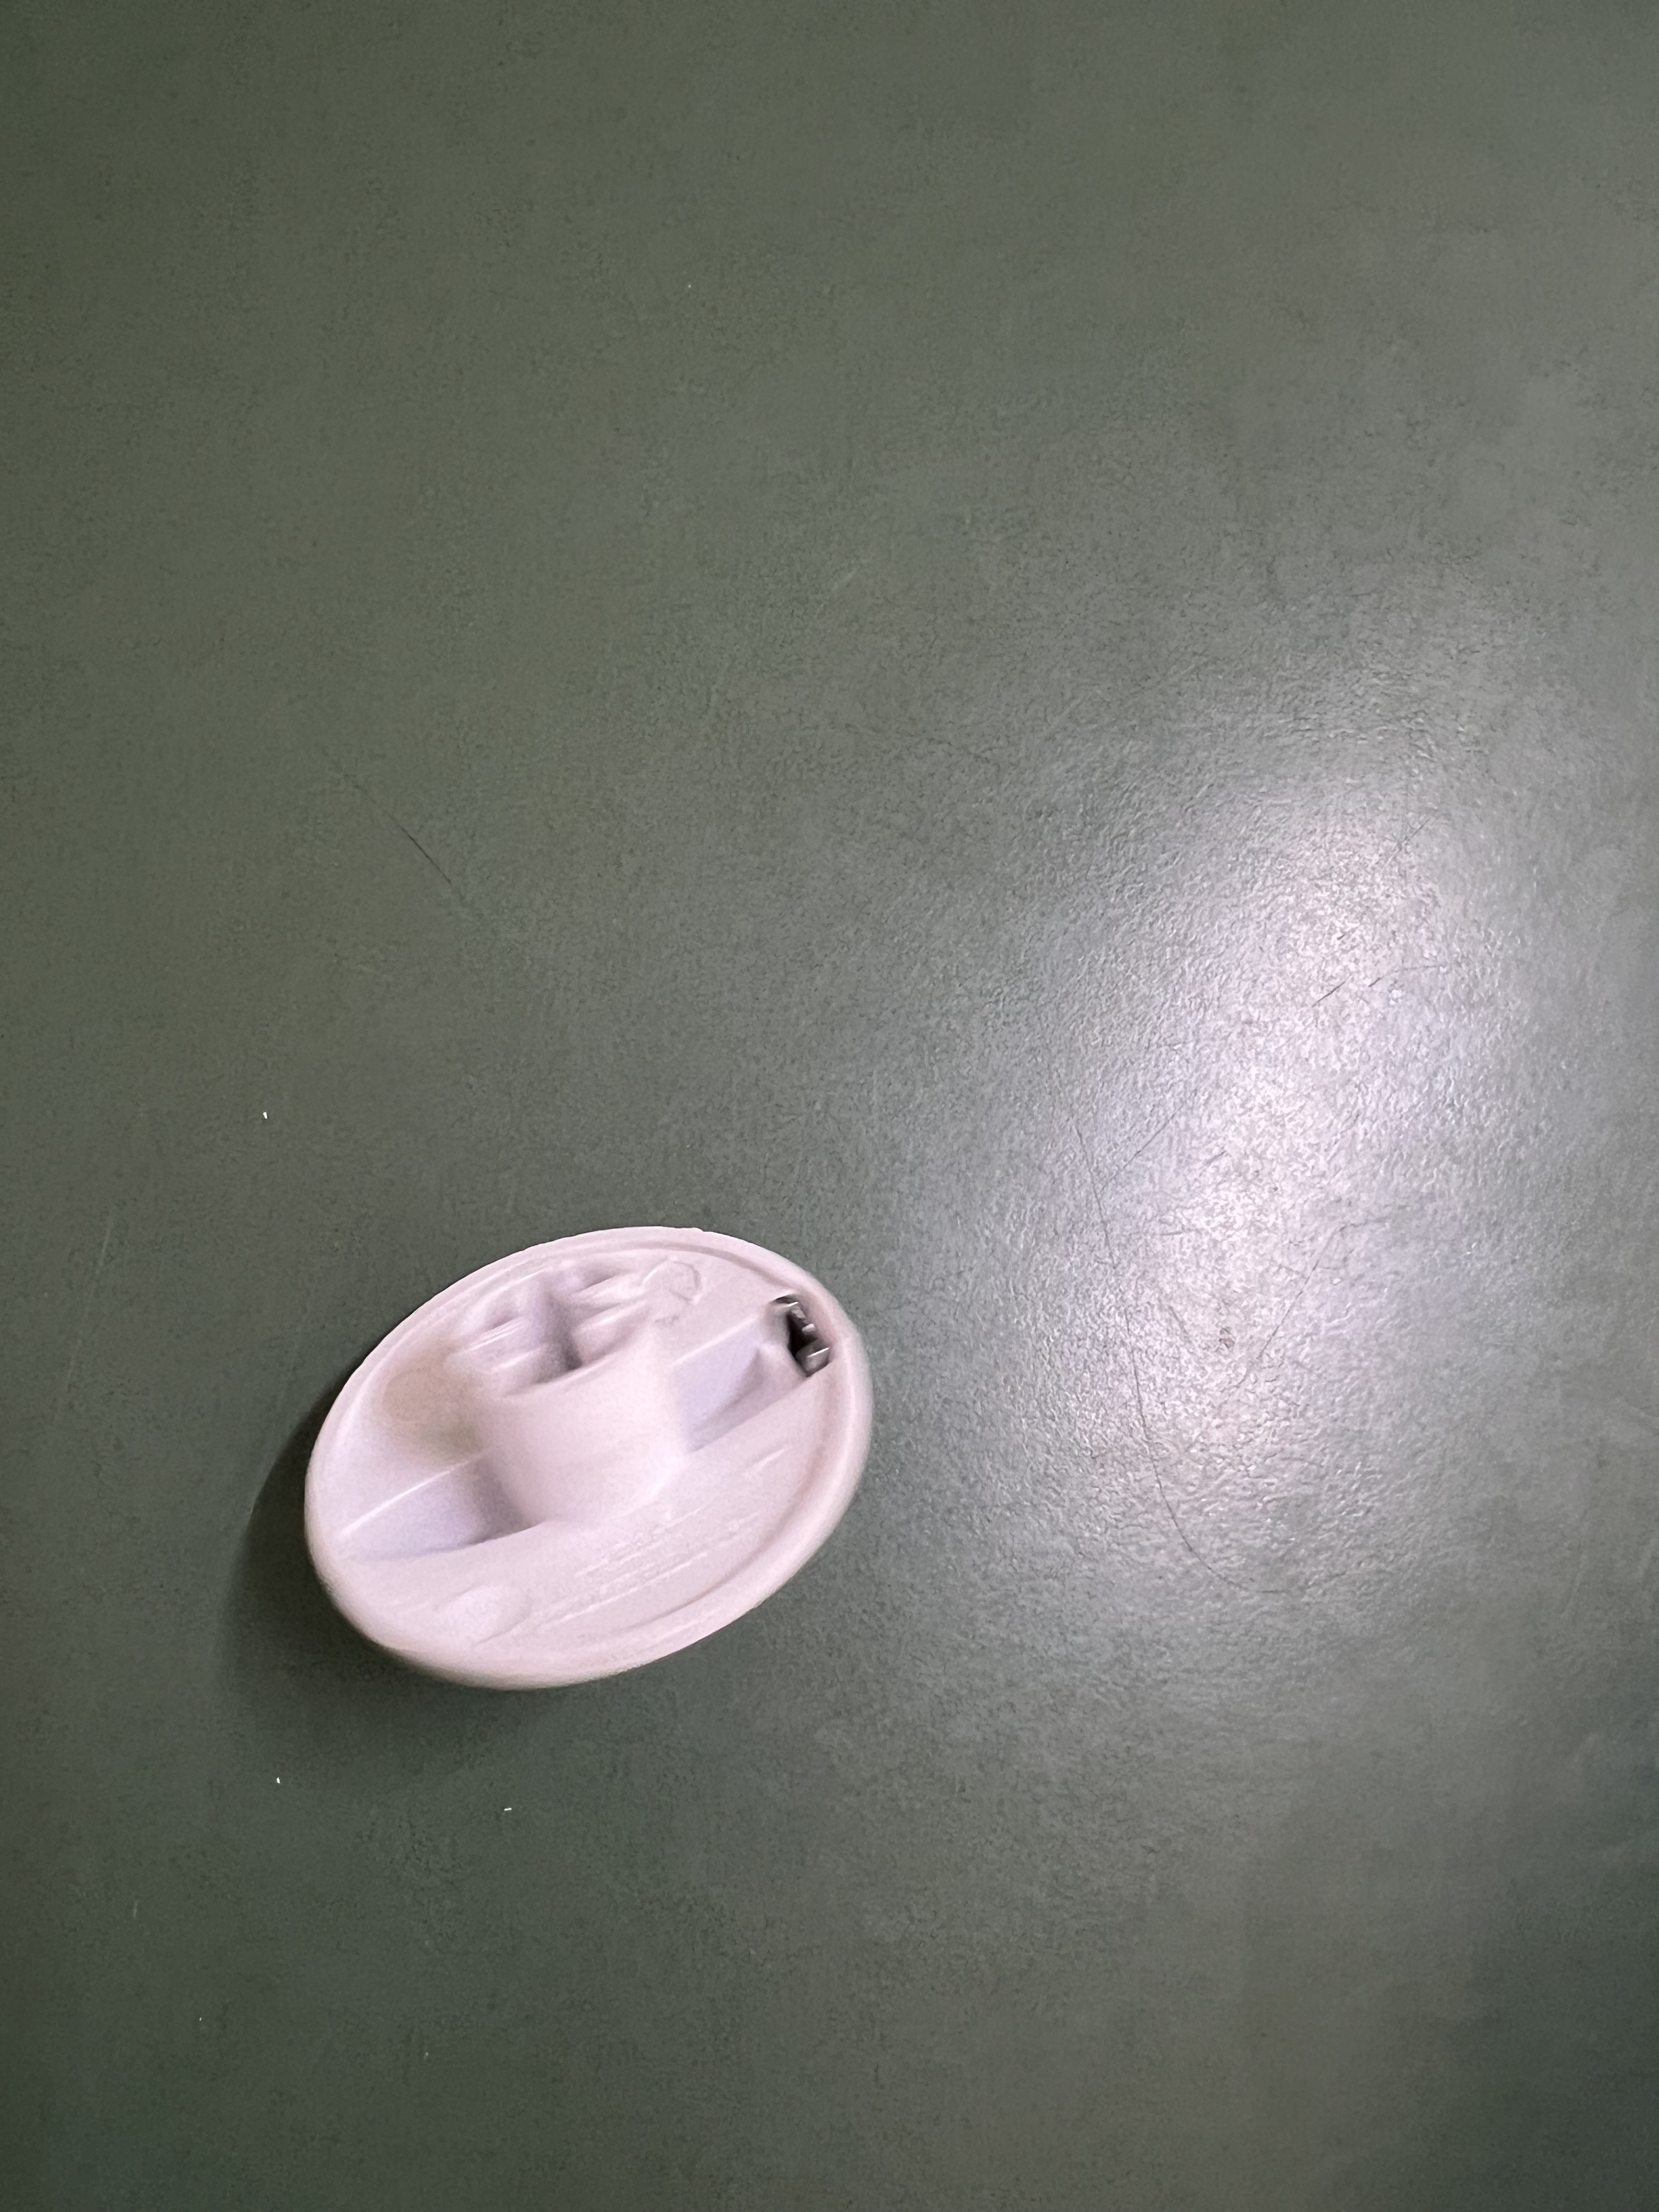regulator: (286, 1209, 894, 1709)
